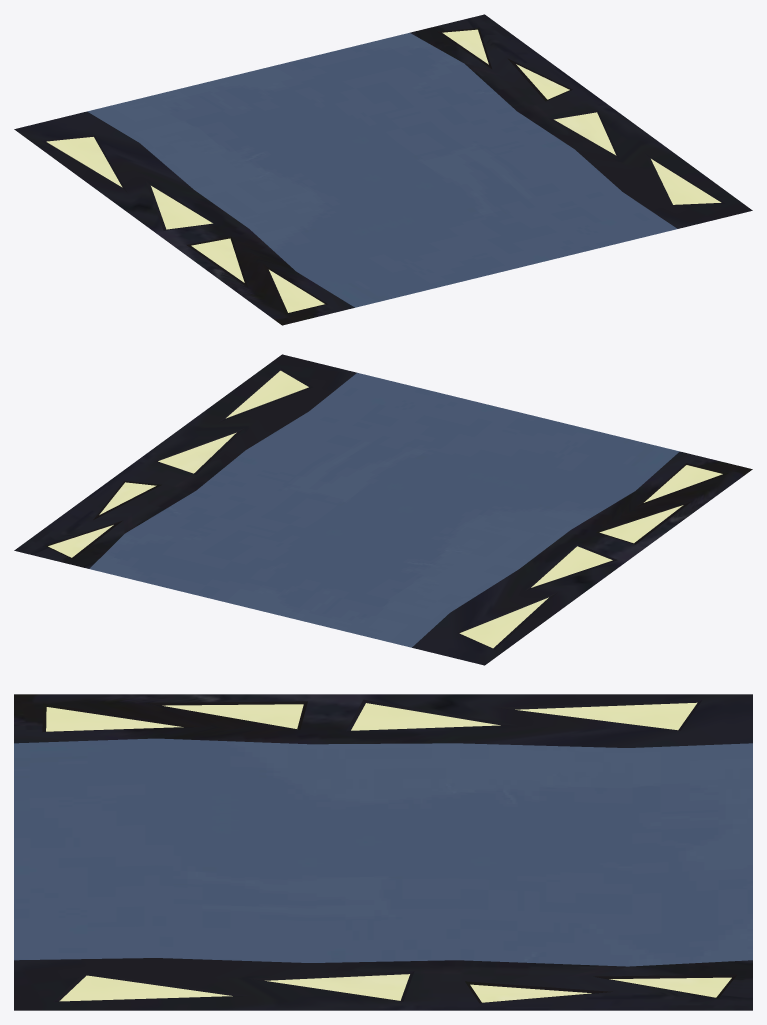
File: terrain-path01-art.glb
The picture shows the model from 3 angles, top to bottom: view 1: azimuth 30°, elevation 25°; view 2: azimuth 150°, elevation 25°; view 3: azimuth 270°, elevation 25°; orthographic projection. The views are drawn at different scales.
Visible parts, largest first — view 1: TerrainPath01_Art; view 2: TerrainPath01_Art; view 3: TerrainPath01_Art.
Boxes of the visible parts, left/top/right/bottom form: TerrainPath01_Art: left=14, top=14, right=752, bottom=325; TerrainPath01_Art: left=14, top=354, right=752, bottom=665; TerrainPath01_Art: left=14, top=694, right=752, bottom=1010.
Size of the model in its own units: 2.03 by 0.00198 by 2.
Materials: 1 (1 with a texture image).
